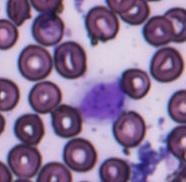L: (77, 78, 128, 123)
